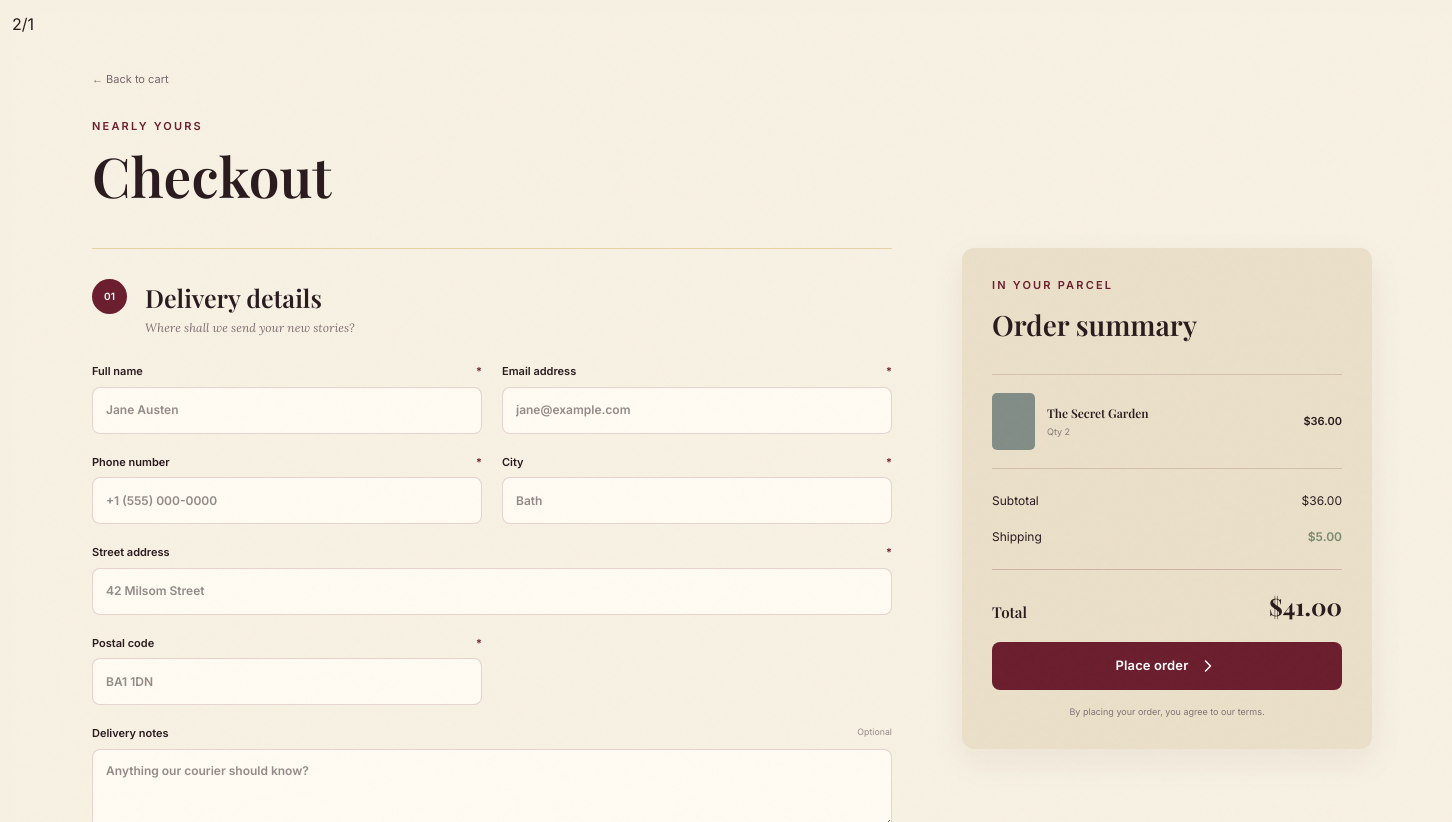
Test: Checkout validation › shows an error next to every empty required field and does not submit
Step 1. Click the button "Place order" → (1167, 666), box x1=992 y1=642 x2=1342 y2=690
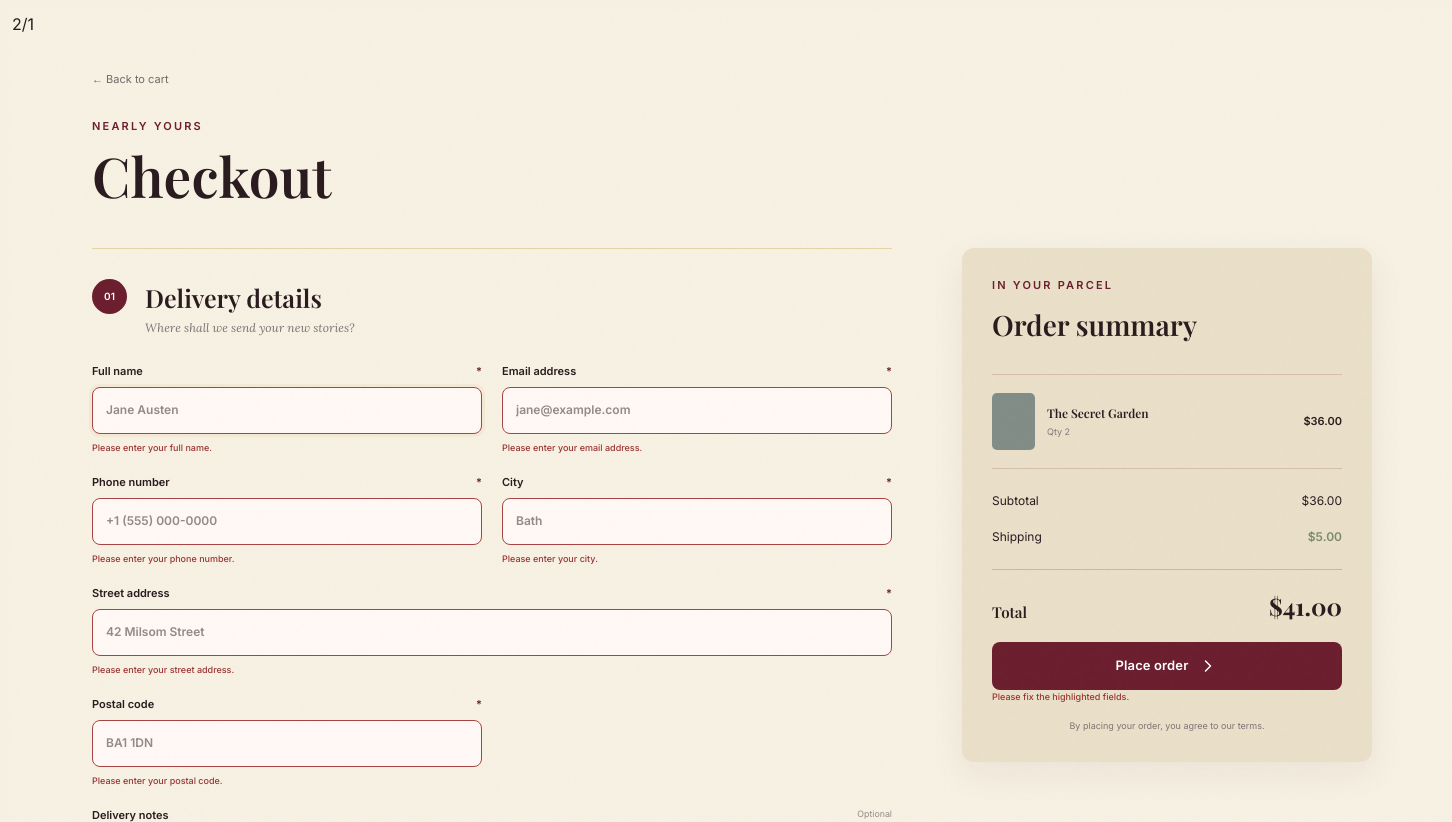
Expected: the text "Please enter your full name." is shown, x1=92 y1=442 x2=212 y2=453
Expected: the text "Please enter your email address." is shown, x1=502 y1=442 x2=642 y2=453
Expected: the text "Please enter your phone number." is shown, x1=92 y1=553 x2=234 y2=564
